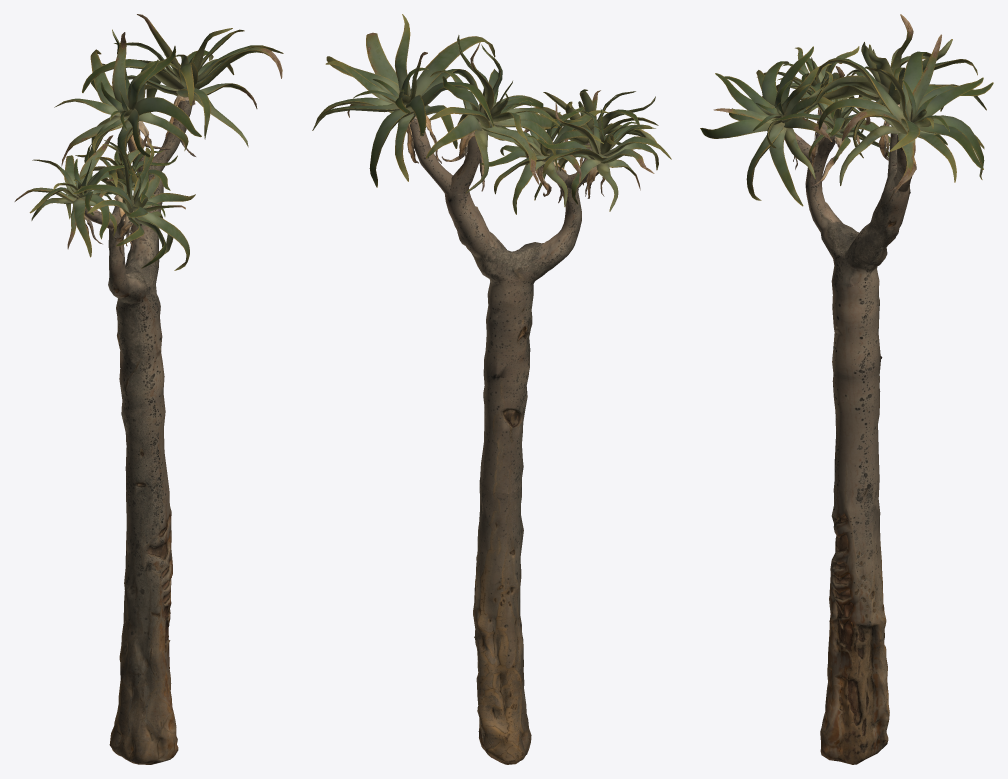
Rendered from albero_1.glb.
3 views of the same model, side by side, from view 1: azimuth 30°, elevation 25°; view 2: azimuth 150°, elevation 25°; view 3: azimuth 270°, elevation 25° (orthographic). The views are drawn at different scales.
Visible parts, largest first — view 1: quiver_tree_01; view 2: quiver_tree_01; view 3: quiver_tree_01.
Part boxes in pixels (x1=…): quiver_tree_01: x1=14, y1=14, x2=283, y2=764; quiver_tree_01: x1=312, y1=14, x2=671, y2=764; quiver_tree_01: x1=700, y1=14, x2=993, y2=764.
Size of the model in its own units: 1.18 by 2.71 by 0.9701.
2 materials, 2 textured.
